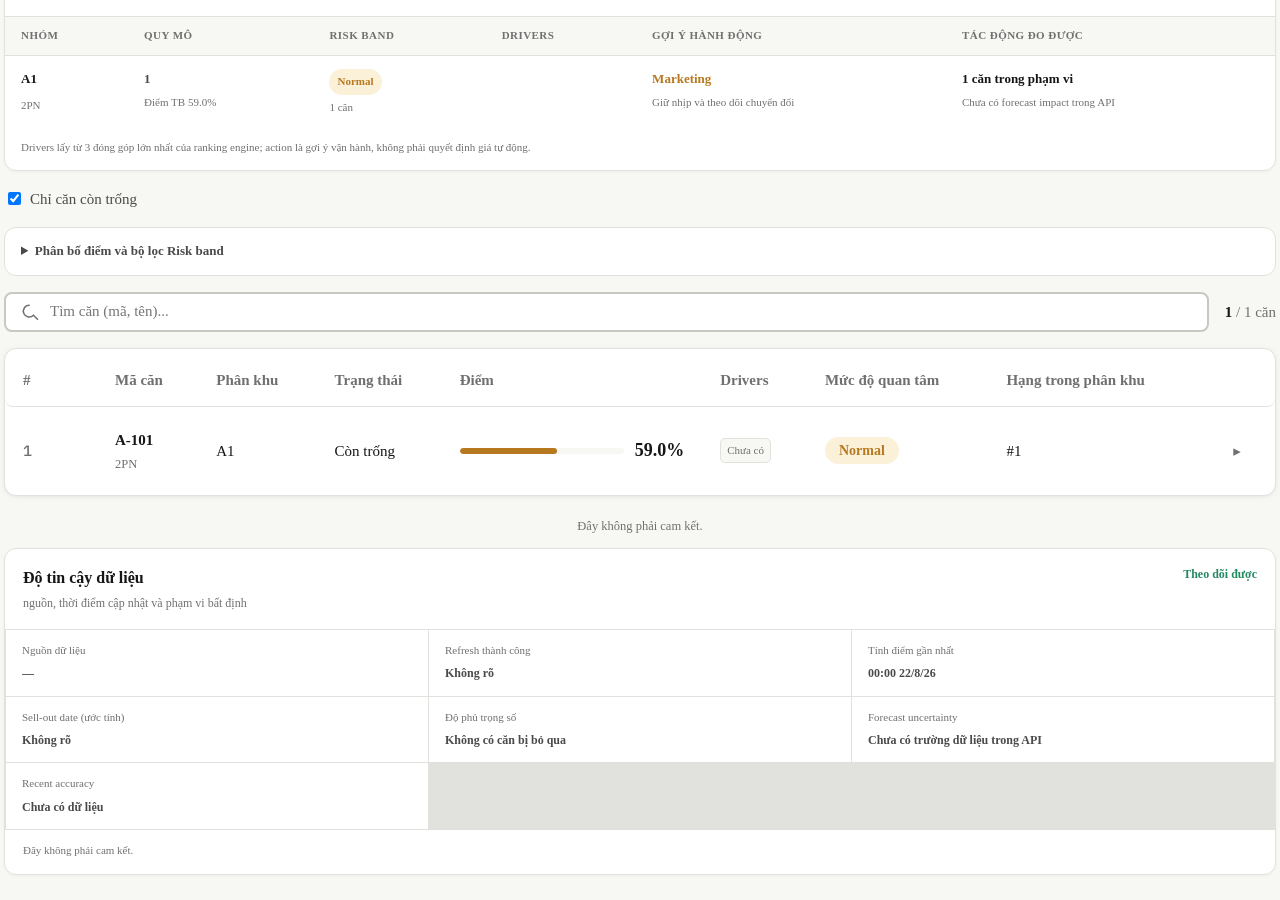
Test: RankingPage — hierarchical disclosure (PR-7) › hides the panel entirely when hierarchical is null (flag off / not computed)
The image size is (1280, 900).
(page scrolled)
Click the text "A-101" at x=640, y=451, box [5, 412, 1275, 490]
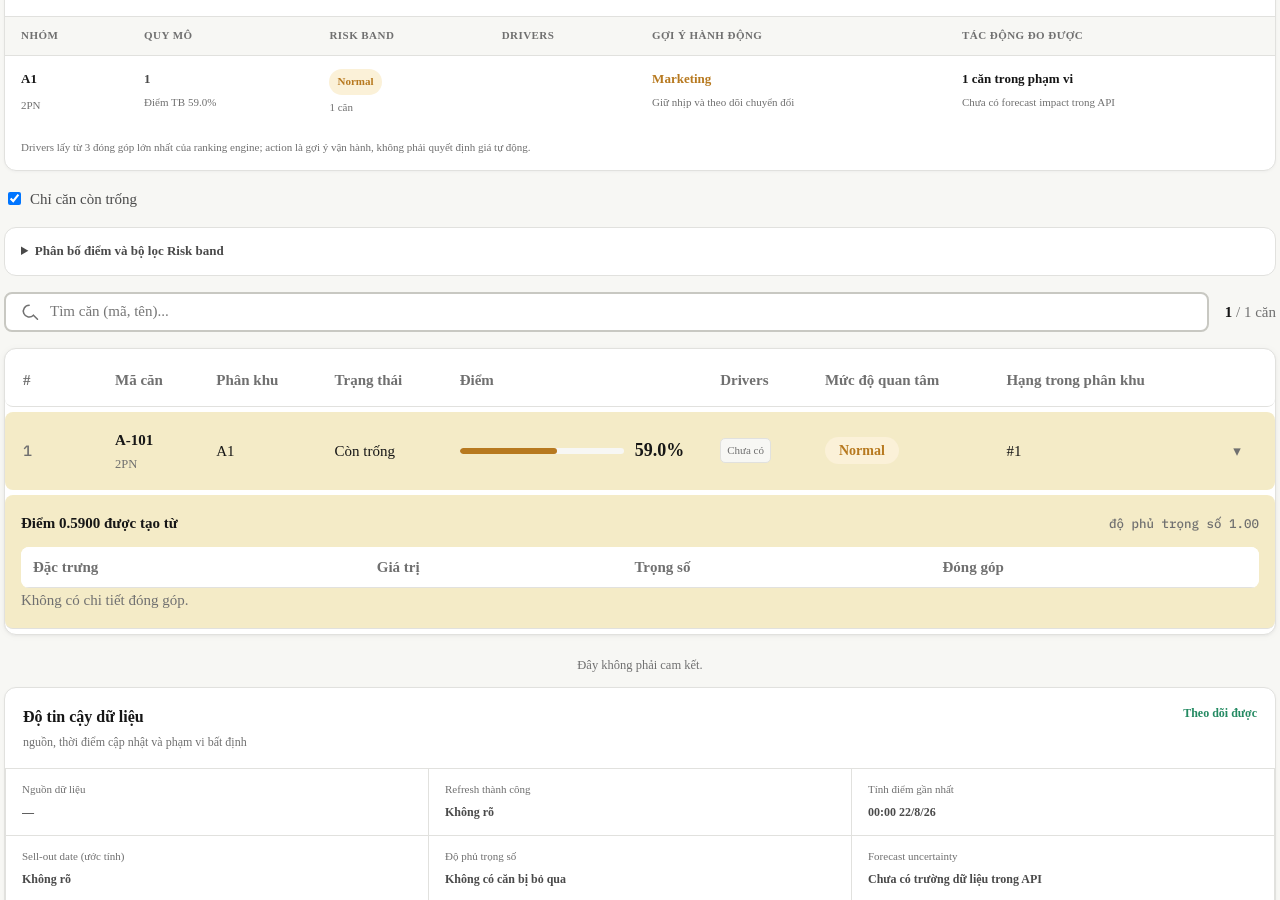
Expected: the text "Điểm 0.5900 được tạo từ" is shown, [21, 511, 178, 535]
